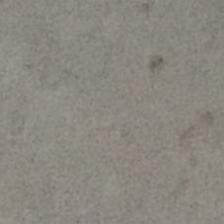Non_Crack: (10, 17, 224, 184)
